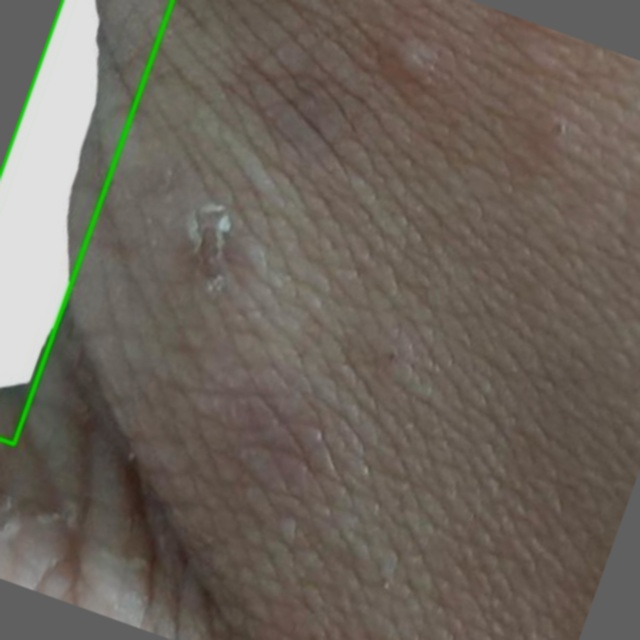Scabies: (0, 0, 172, 444)
